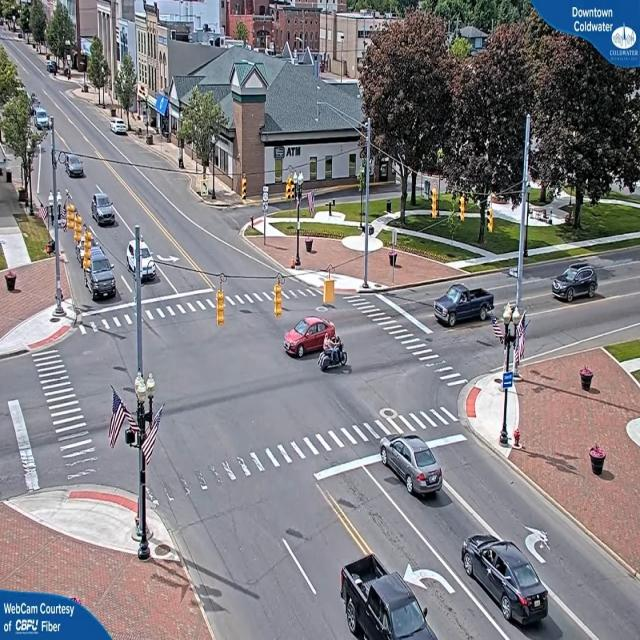car: (460, 536, 550, 632), (340, 560, 436, 640), (382, 434, 443, 497), (433, 282, 495, 327), (284, 316, 340, 359), (551, 262, 601, 302), (82, 243, 117, 299), (131, 233, 157, 281), (91, 190, 117, 227)
motorbike: (321, 340, 348, 371)
